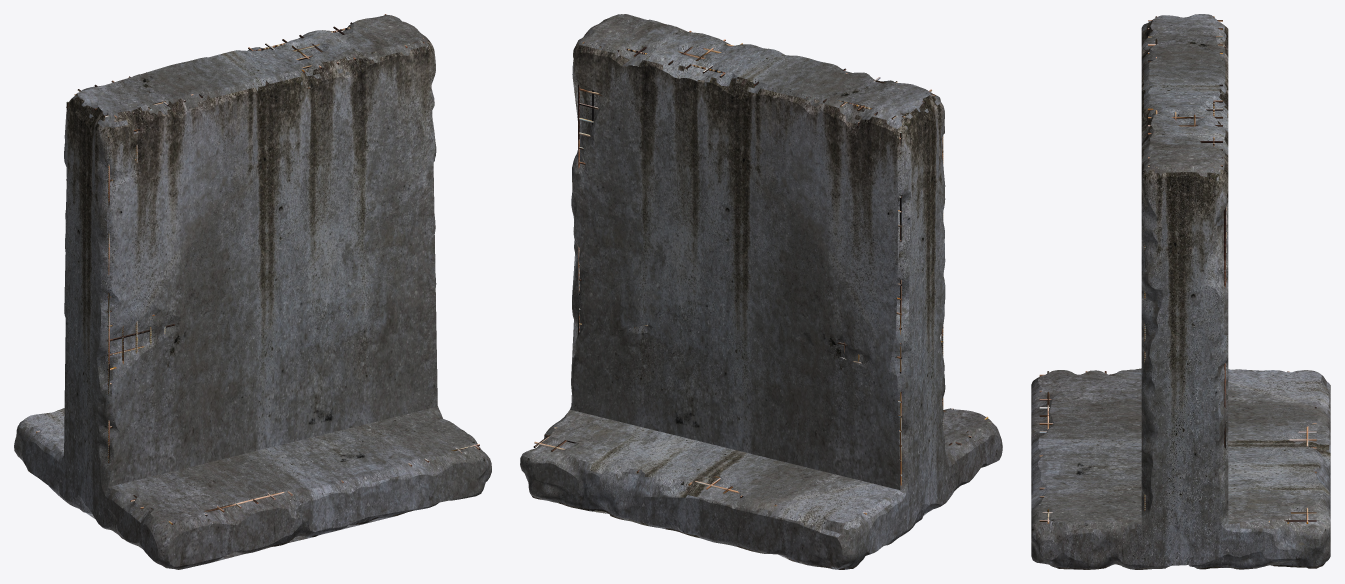
The model's file is Bet_bloc3.fbx.
3 views of the same model, side by side, from view 1: azimuth 30°, elevation 25°; view 2: azimuth 150°, elevation 25°; view 3: azimuth 270°, elevation 25° (orthographic). The views are drawn at different scales.
Visible parts, largest first — view 1: Plane_dmg; view 2: Plane_dmg; view 3: Plane_dmg.
Boxes of the visible parts, x1,y1,x2,y2 form: Plane_dmg: (14,14,491,569); Plane_dmg: (520,14,1002,569); Plane_dmg: (1031,14,1330,569).
Bounding box in the file's own units: 200 × 237 × 160.
